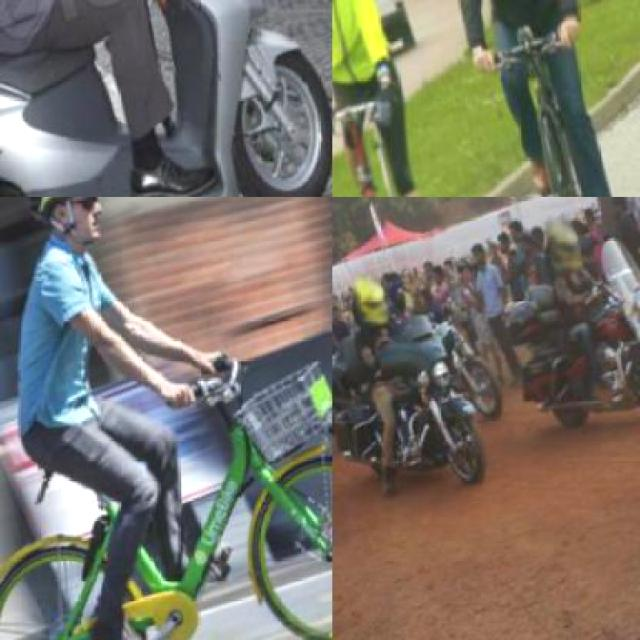With Helmet: (10, 197, 124, 266), (542, 216, 586, 287), (348, 270, 392, 336)
